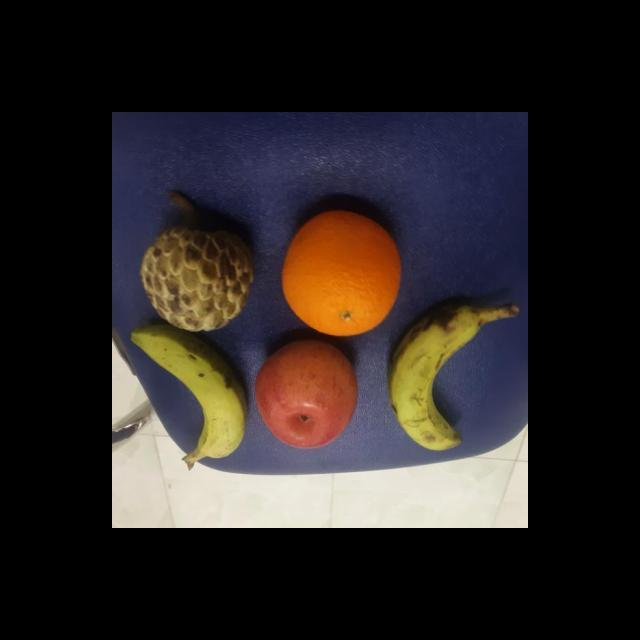Sakya fruit: (138, 226, 255, 334)
apple: (250, 337, 360, 451)
banana: (126, 326, 248, 462), (387, 302, 478, 454)
orange: (280, 206, 404, 338)
